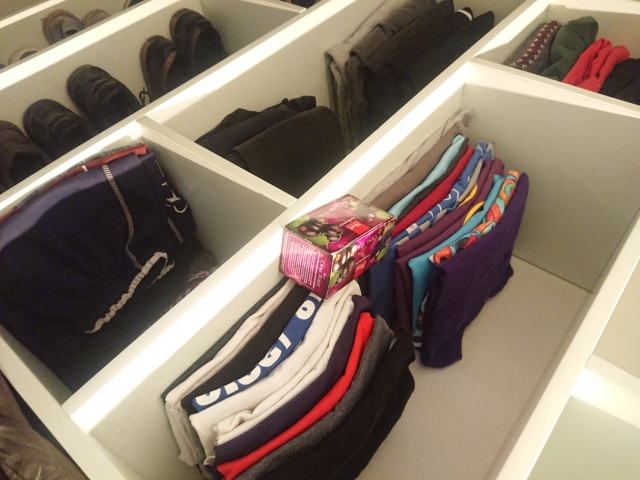Franck Black Currant Tea 60g: (276, 191, 399, 301)
